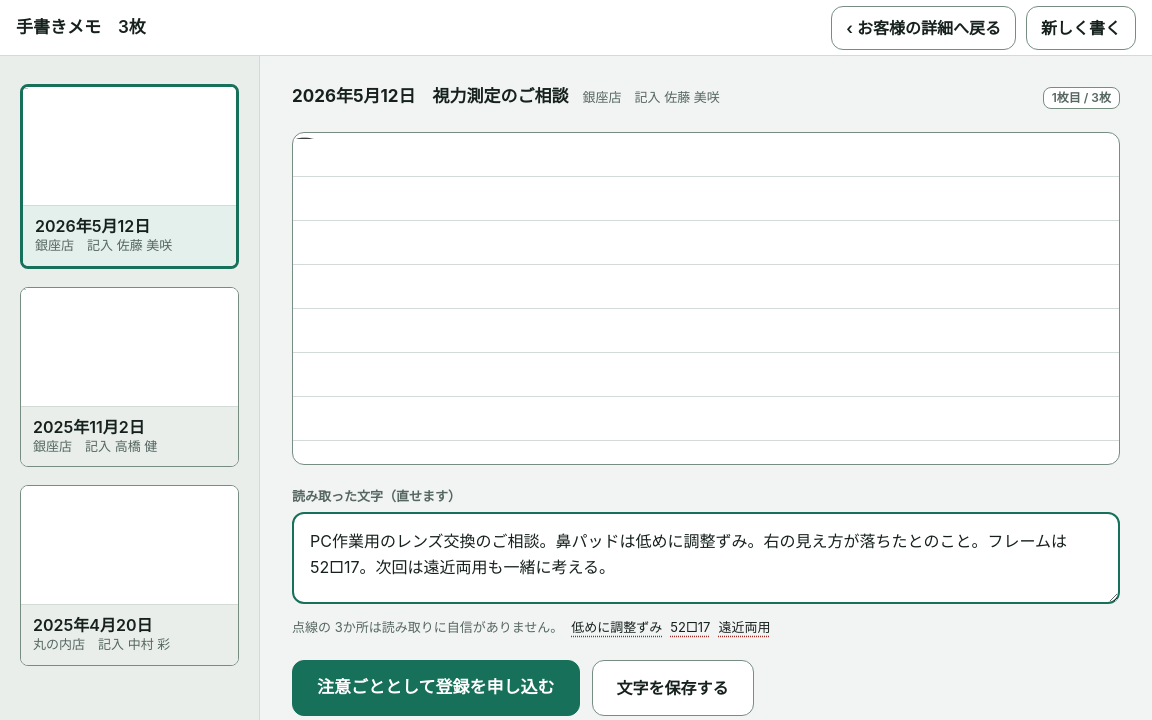
申し込み › 「注意ごととして登録を申し込む」を押すと札が「注意ごとに申し込み済み」になる
This screenshot has width=1152, height=720.
Step 1. Click the button "注意ごととして登録を申し込む" → (436, 688), box x1=292 y1=660 x2=580 y2=716
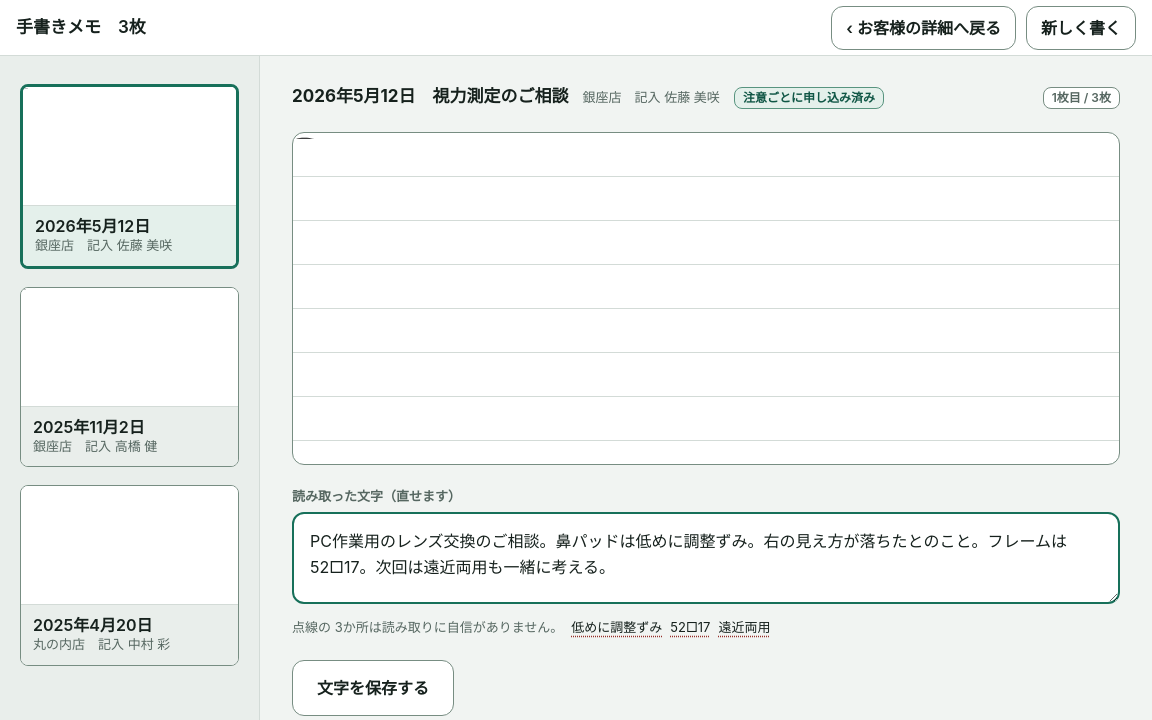
Expected: the text "注意ごとに申し込み済み" is shown, x1=734 y1=87 x2=884 y2=109
Expected: the button "注意ごととして登録を申し込む" is gone
